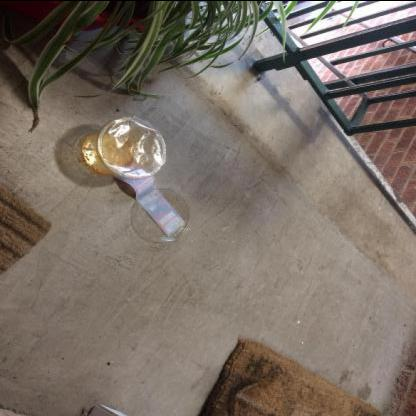Lid: (132, 187, 194, 241)
Plastic bag - wrapper: (97, 114, 167, 178)
Plastic container: (82, 117, 167, 179)
Unlabeled litter: (114, 174, 186, 236)
